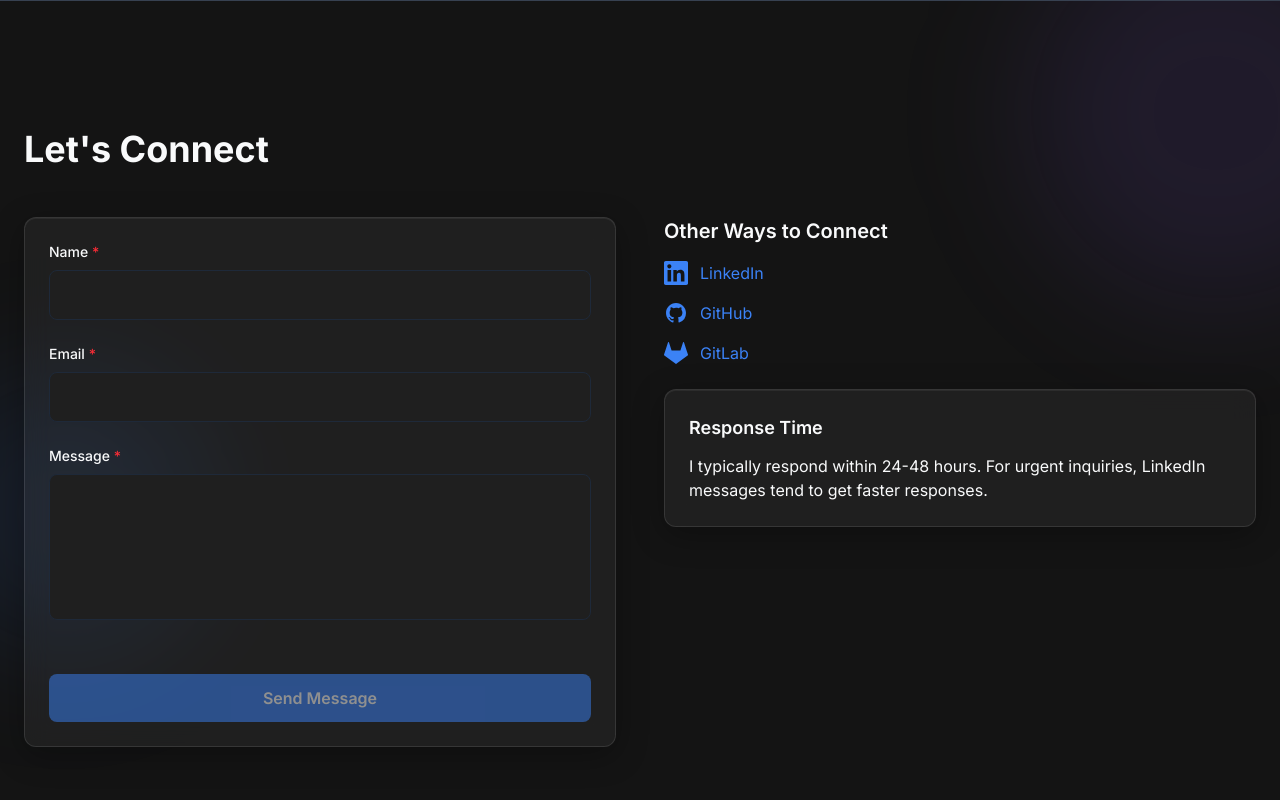
Test: Contact › validates message field
The width and height of the screenshot is (1280, 800).
Type "short" into the text box labelled "Message *".
click(320, 547); type("short")  # box [49,474,591,620]
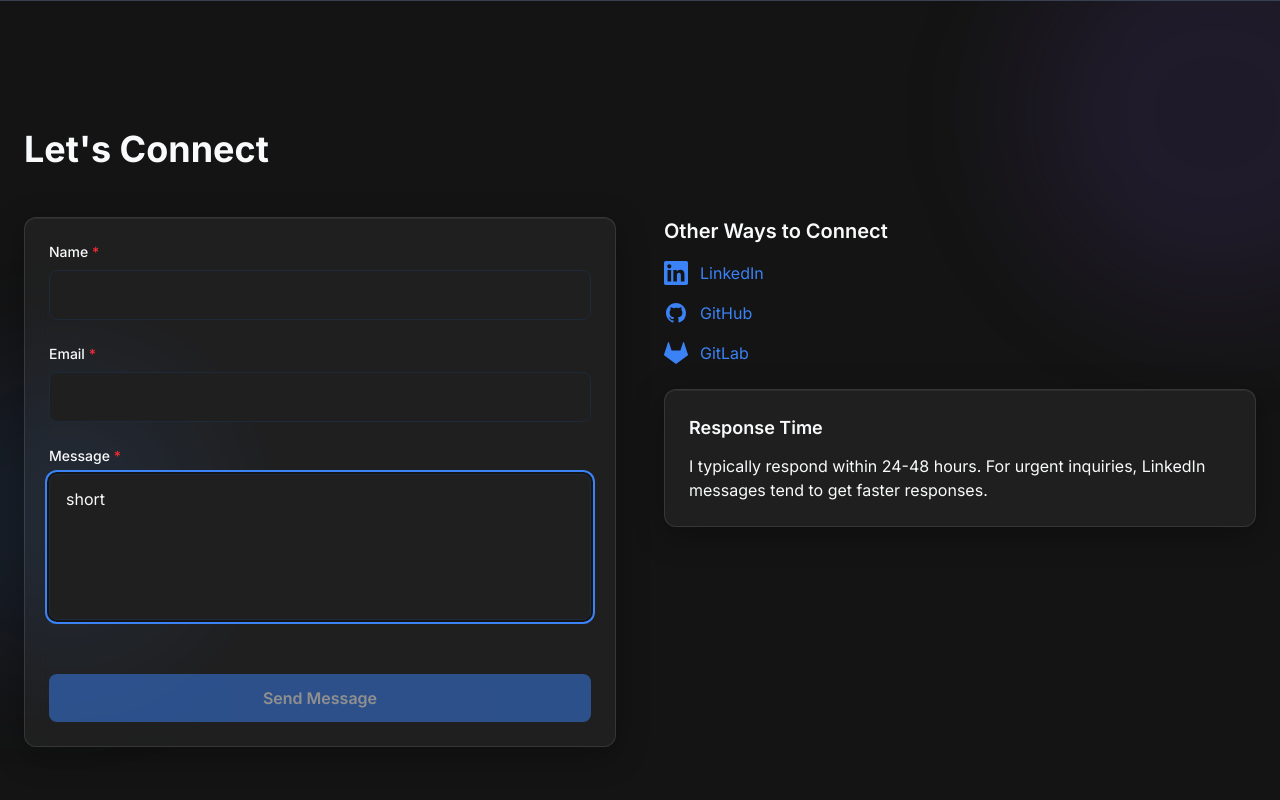
Press Tab
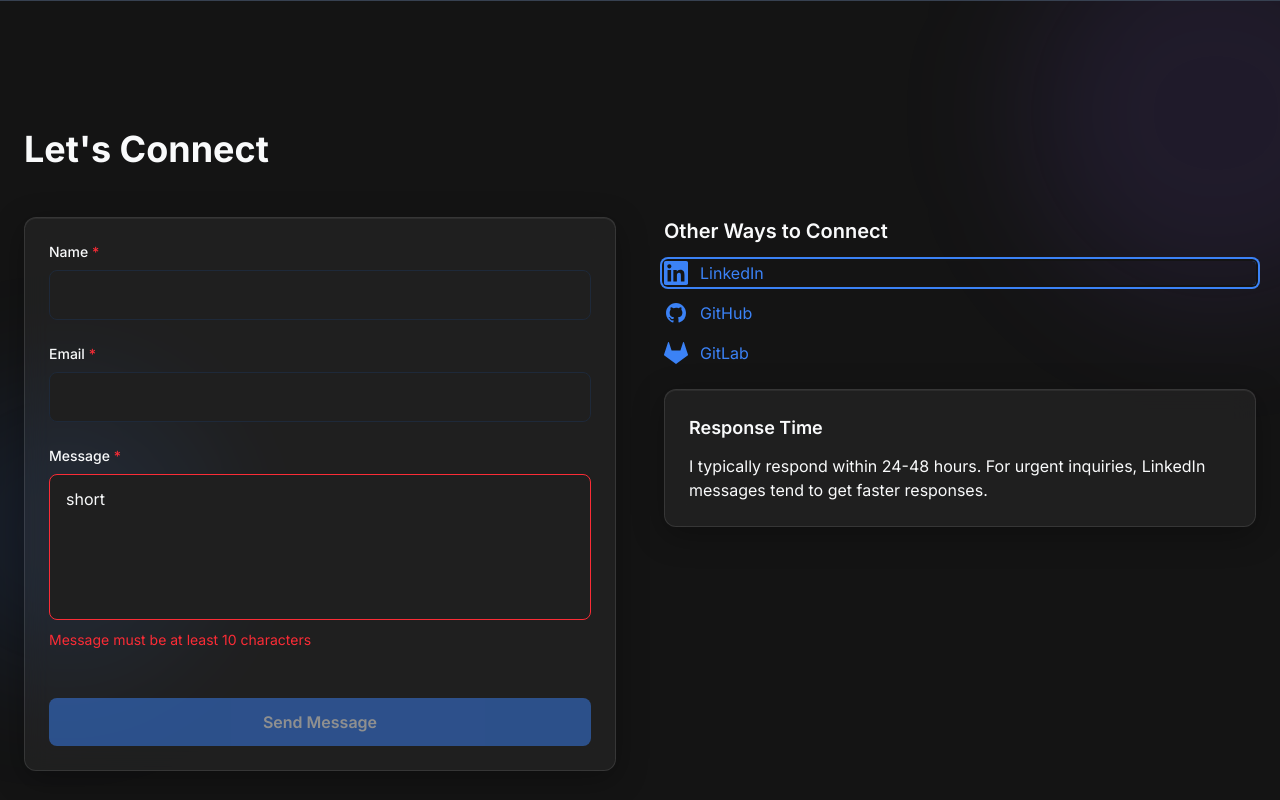
Expected: the text "Message must be at least 10 characters" is shown, [49,631,311,648]
